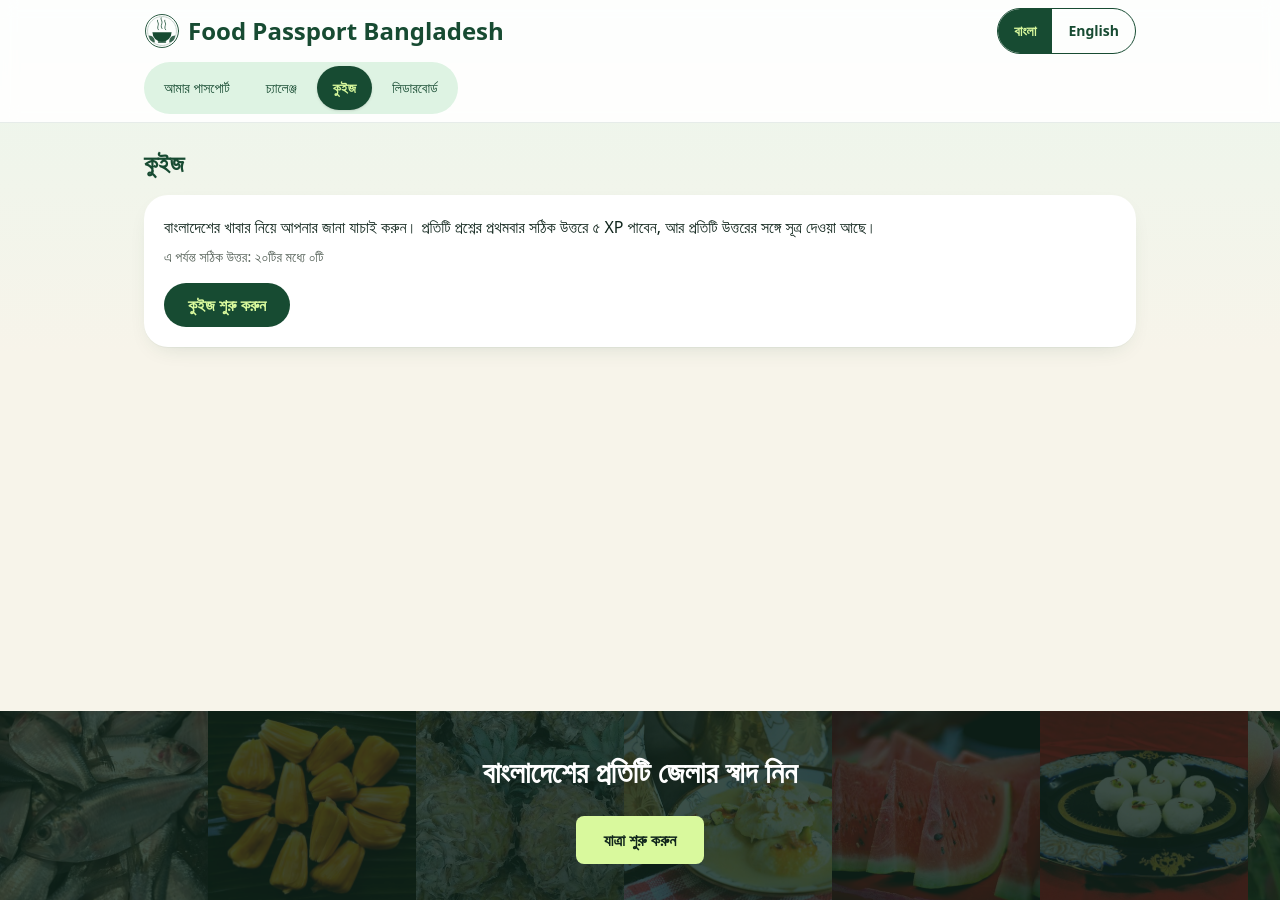
Scenario: a wrong answer is marked with text, explains, and earns nothing
Expected: the heading "কুইজ" is shown, x1=144 y1=146 x2=184 y2=179
Click the button "কুইজ শুরু করুন": point(227, 305) x1=164 y1=283 x2=290 y2=327
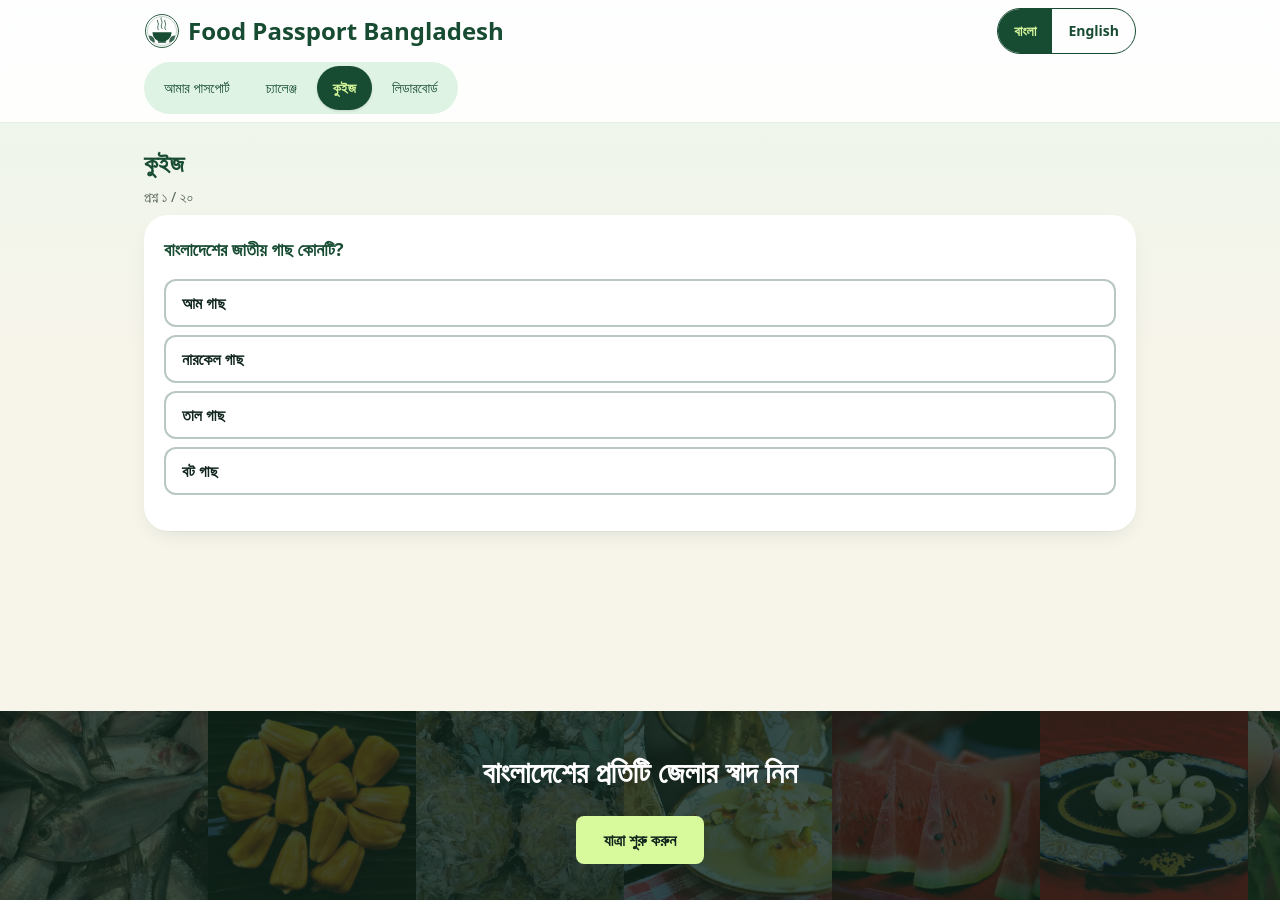
Click the button "বট গাছ": point(200, 471) x1=164 y1=447 x2=1116 y2=495
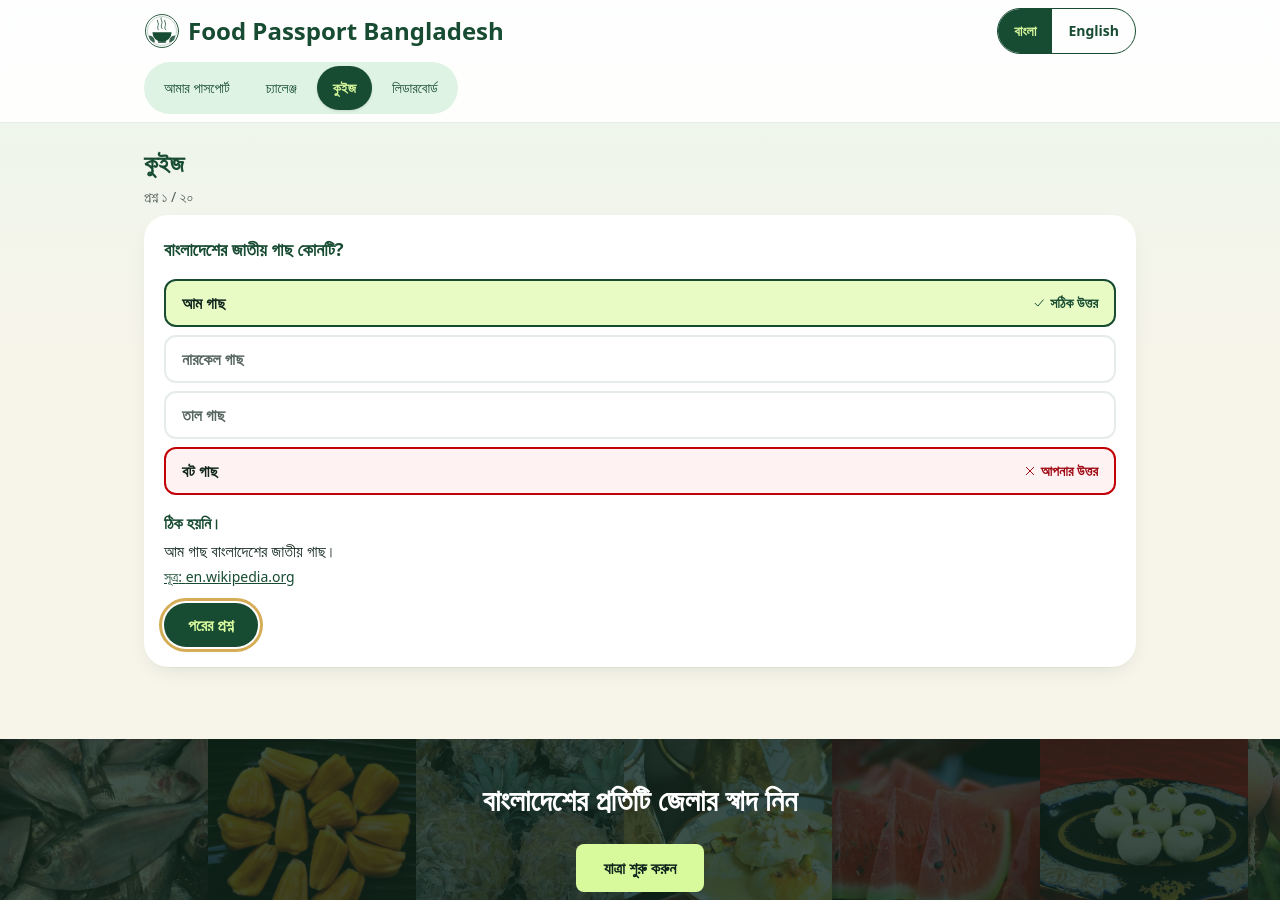
Now the text "ঠিক হয়নি।" is shown, box x1=164 y1=512 x2=222 y2=534
